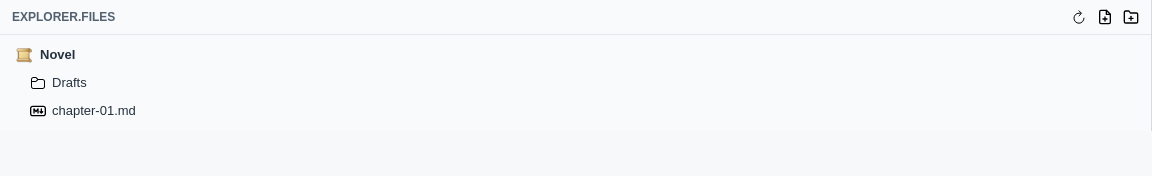
it: FileExplorer › reloads the selected folder children and keeps the folder expanded
This screenshot has width=1152, height=176.
Step 1. Click the list item "Drafts" → (69, 82), box [6, 69, 1145, 97]
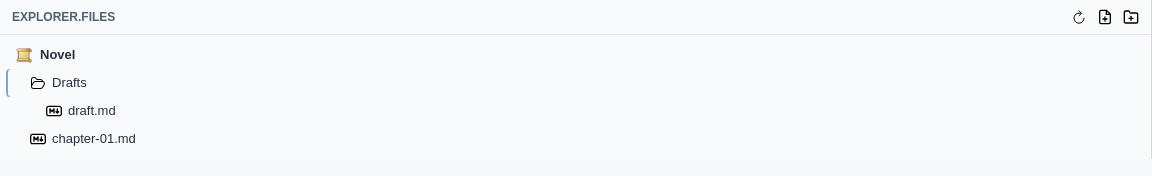
Expected: the text "draft.md" is shown, [68, 103, 116, 118]
Step 2. Click the button named "explorer.reload" → (1079, 17), box [1067, 5, 1091, 29]
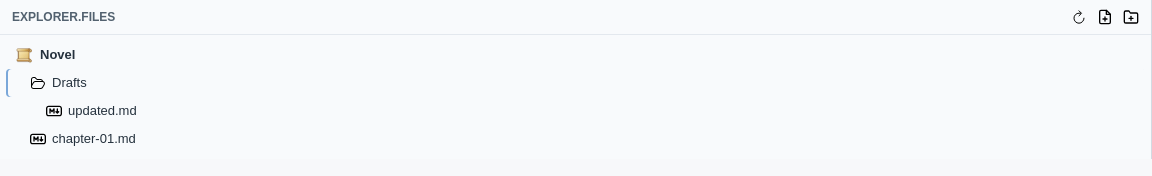
Expected: the text "draft.md" is gone
Expected: the text "updated.md" is shown, [68, 103, 137, 118]
